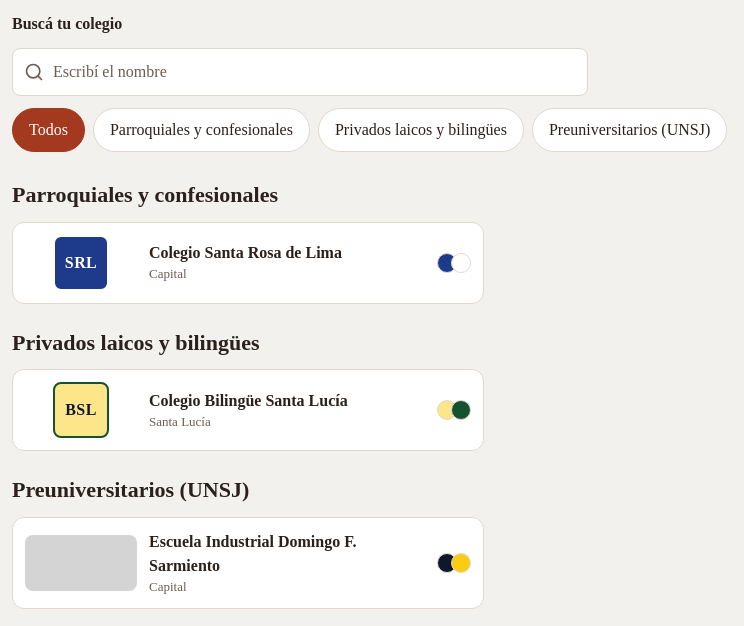
catálogo › busca y filtra por categoría de la tienda
Expected: the search field labelled "Buscá tu colegio" is shown, [12,48,588,96]
Click the button "Privados laicos y bilingües" at (421, 130), box [318,108,524,152]
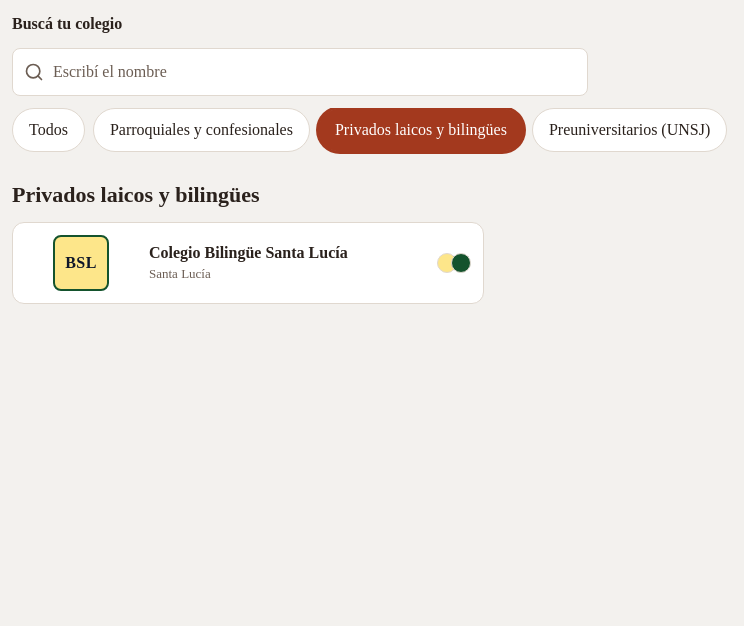
Expected: the link "Santa Rosa" is gone
Click the button "Todos" at (48, 130), box [12,108,85,152]
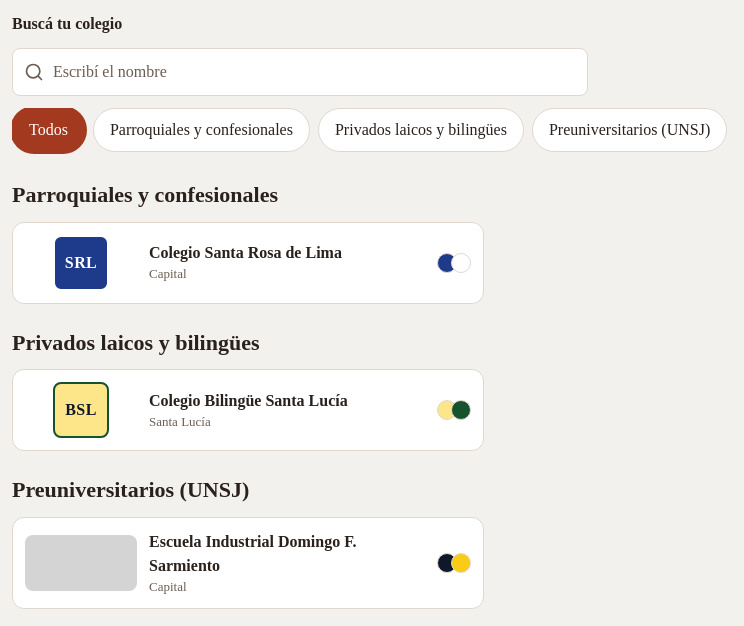
Type "inexistente" into the search field labelled "Buscá tu colegio" at (300, 72), box [12,48,588,96]
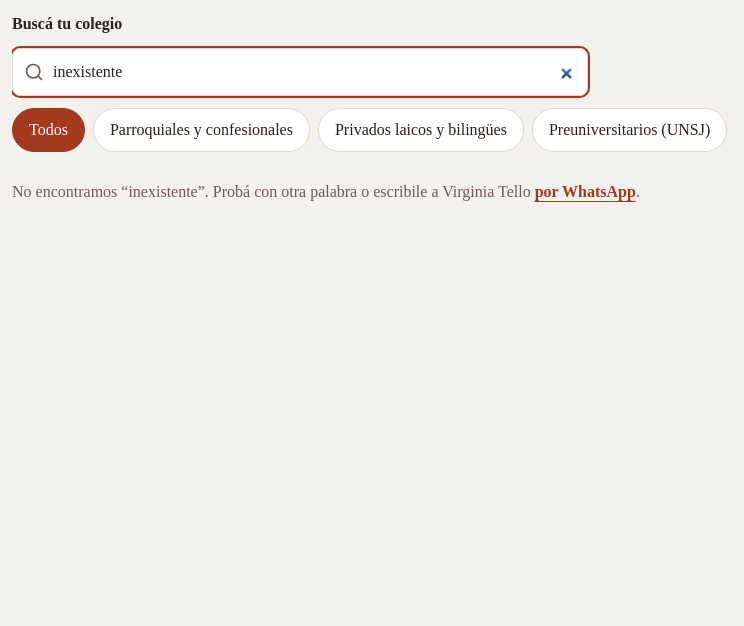
Expected: the text "No encontramos “inexistente”" is shown, [12,183,640,200]
